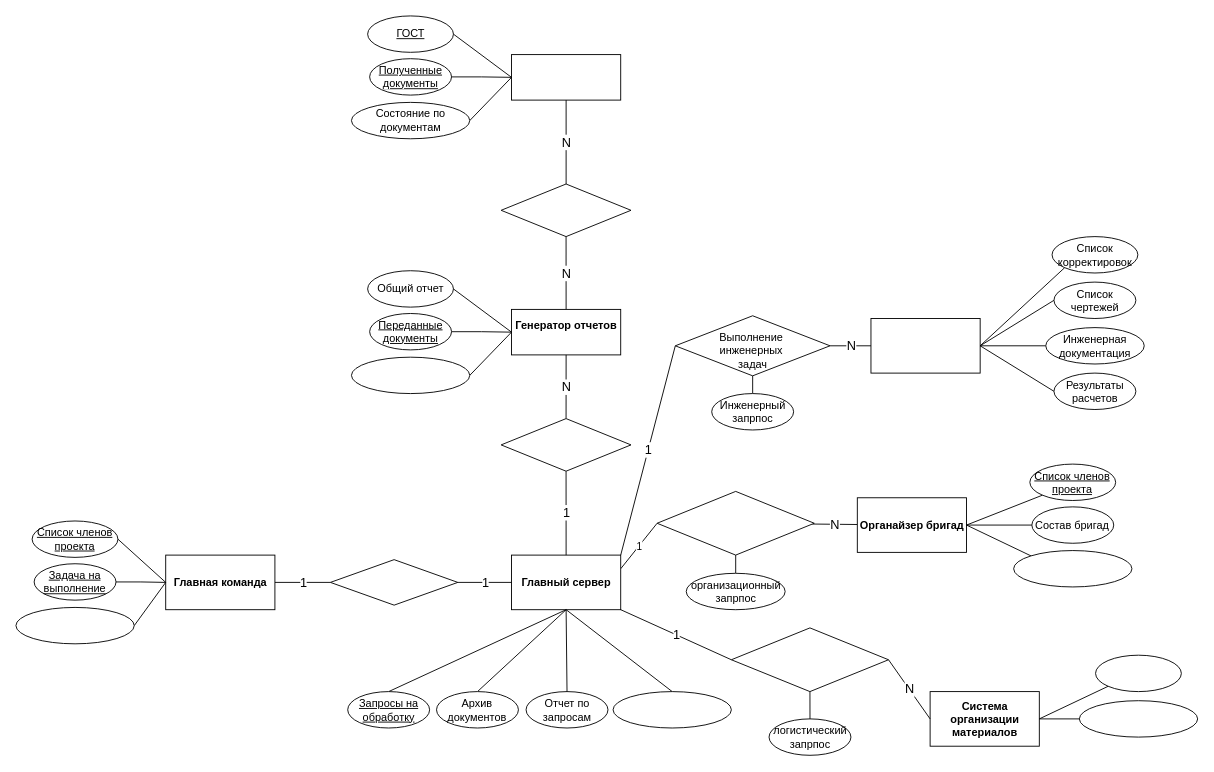
This 1214x772 diagram has some shape labels left out. The shapes that lost their labels are listed below. From the top down, each one's box as (x1, y1, x2, y2) in pixels, then its label:
(511, 54, 621, 100): Гос. комиссия
(500, 183, 631, 237): Порверка по ГОСТ
(870, 318, 980, 373): Программа моделирования
(351, 356, 470, 394): Состояние проверки
(500, 418, 631, 471): Выполнение отчетности
(656, 490, 814, 555): Выполнение организационных задач
(330, 559, 458, 605): Передача задач
(1013, 550, 1132, 587): Список требуемых специалистов
(15, 607, 134, 644): Результат проверки
(730, 627, 889, 692): Выполнение логистеческих задач
(1095, 654, 1181, 692): Список на закупку
(612, 691, 731, 728): Список состояний по запросам
(1078, 700, 1198, 737): Состояния по закупкам
